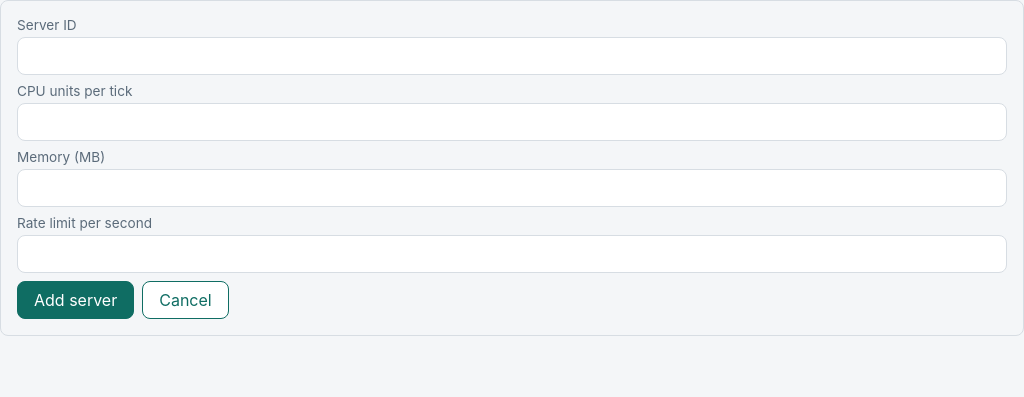
Scenario: ServerForm › rejects a negative memory value
In the field labelled "Server ID": (512, 56) [17,37,1007,75], type "s3"
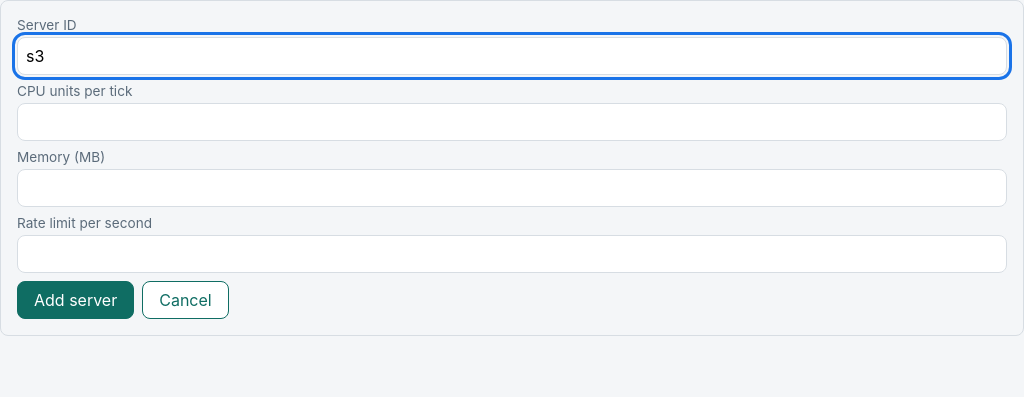
In the number field labelled "CPU units per tick": (512, 122) [17,103,1007,141], type "1"
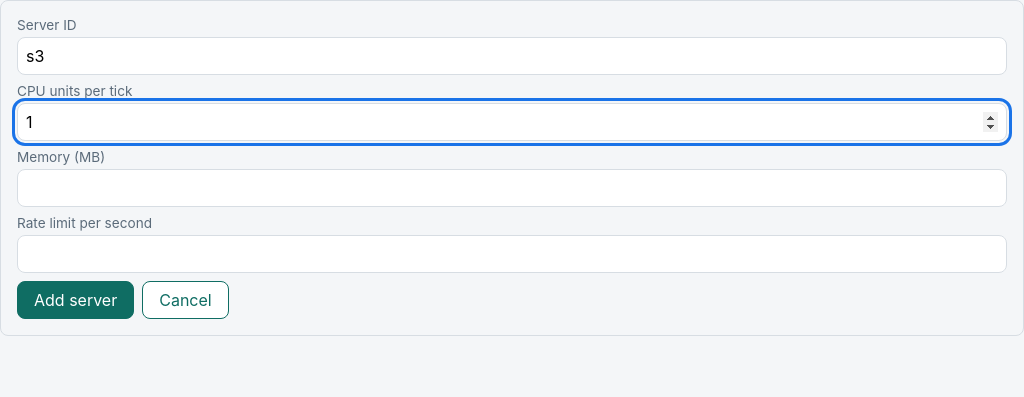
In the number field labelled "Memory (MB)": (512, 188) [17,169,1007,207], type "-1"
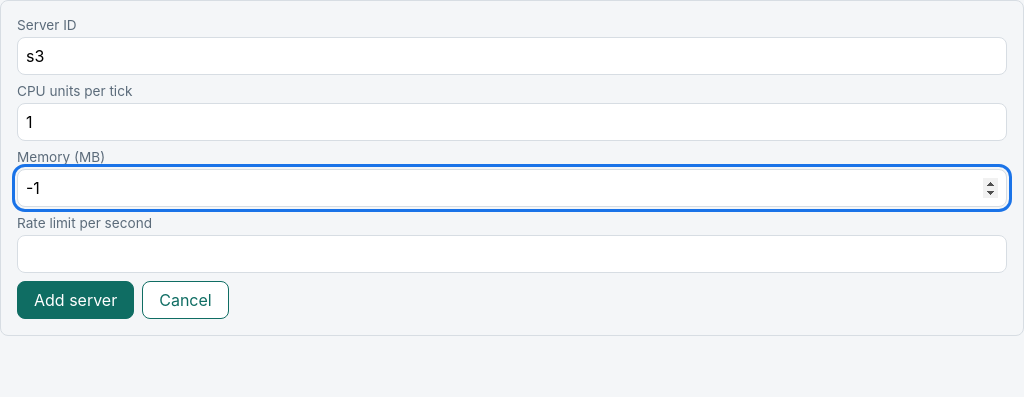
In the number field labelled "Rate limit per second": (512, 254) [17,235,1007,273], type "1"
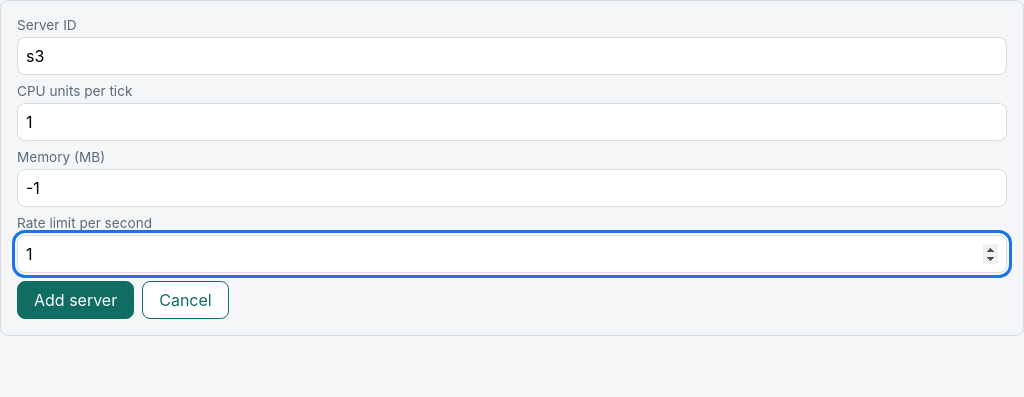
Click the button "Add server": (76, 300) [17,281,134,319]
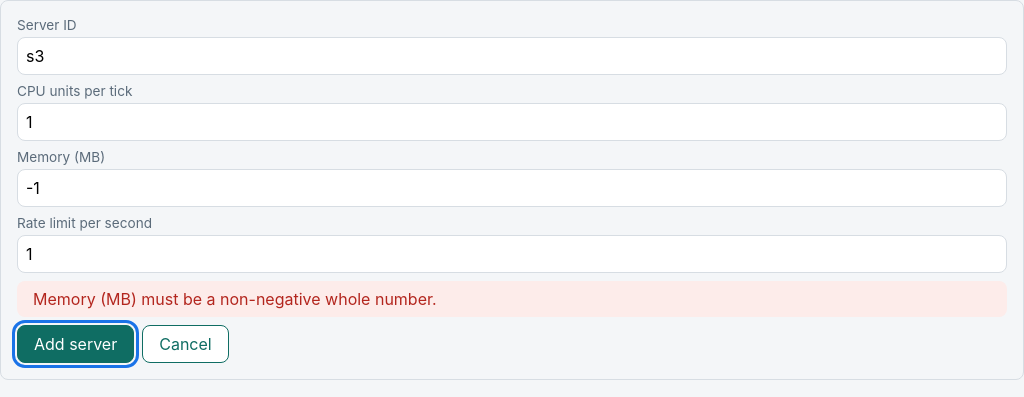
Check: the message shows "non-negative whole number", box [33,289,437,309]
